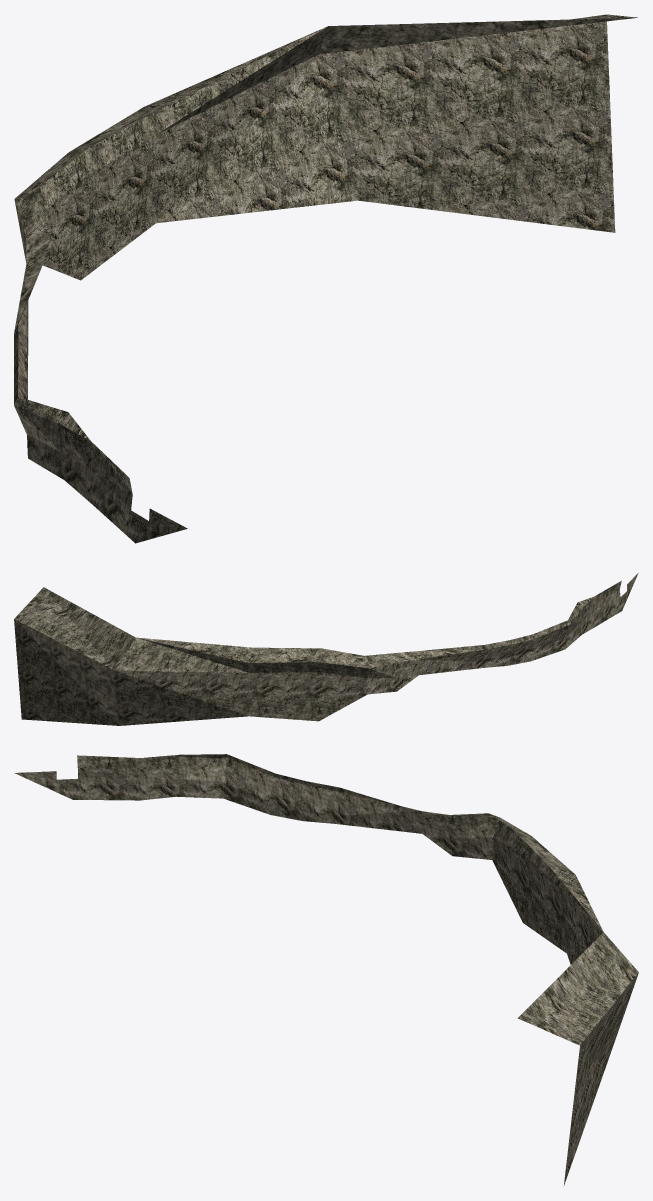
File: ce_groundpalo04a.obj
The picture shows the model from 3 angles, top to bottom: view 1: azimuth 30°, elevation 25°; view 2: azimuth 150°, elevation 25°; view 3: azimuth 270°, elevation 25°; orthographic projection. The views are drawn at different scales.
Parts seen in each view (by area): view 1: CE_groundPALO04A; view 2: CE_groundPALO04A; view 3: CE_groundPALO04A.
Part boxes in pixels (x1,y1,x2,y2): CE_groundPALO04A: (14, 14, 637, 543); CE_groundPALO04A: (14, 573, 638, 725); CE_groundPALO04A: (14, 754, 638, 1186).
Bounding box in the file's own units: 225 × 63.47 × 210.
1 material, 1 textured.
